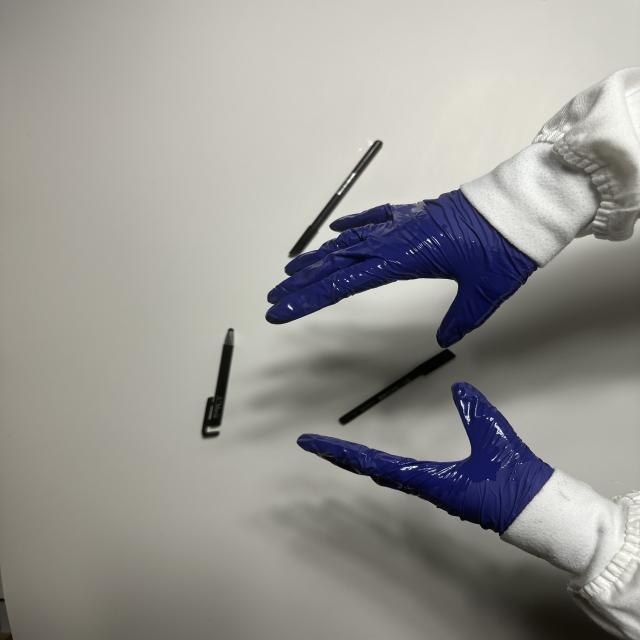gloves_contaminated: (266, 190, 537, 348), (297, 382, 554, 534)
